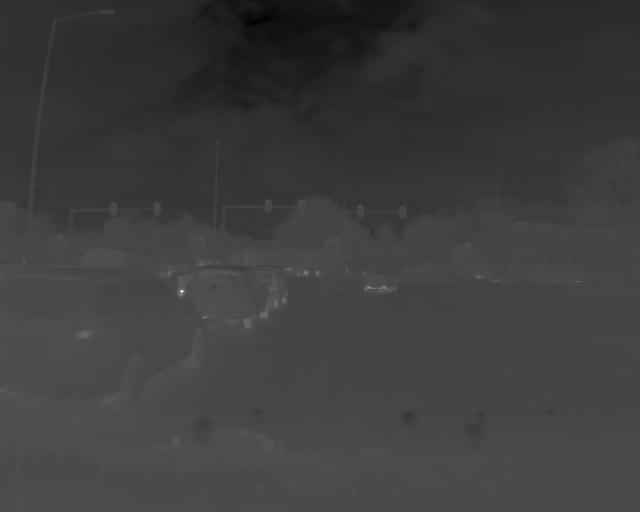car: (1, 261, 211, 417), (181, 263, 275, 328), (362, 268, 404, 298)
